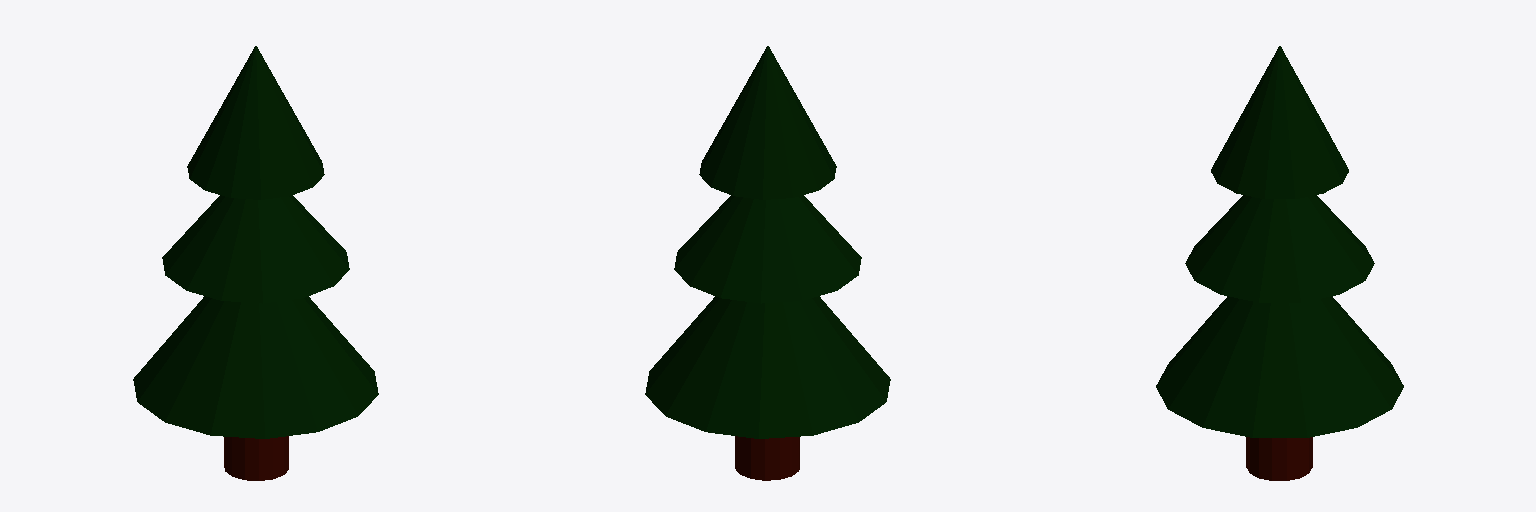
Rendered from Tree.obj.
The picture shows the model from 3 angles: view 1: azimuth 30°, elevation 25°; view 2: azimuth 150°, elevation 25°; view 3: azimuth 270°, elevation 25°; orthographic projection.
Visible parts, largest first — view 1: Cone, Cylinder; view 2: Cone, Cylinder; view 3: Cone, Cylinder.
Part boxes in pixels (bbox=[...]): Cone: bbox=[133, 46, 378, 438]; Cylinder: bbox=[224, 436, 288, 480]; Cone: bbox=[645, 46, 890, 438]; Cylinder: bbox=[735, 436, 799, 480]; Cone: bbox=[1156, 46, 1403, 437]; Cylinder: bbox=[1246, 437, 1312, 480].
Size of the model in its own units: 1.91 by 3.67 by 1.96.